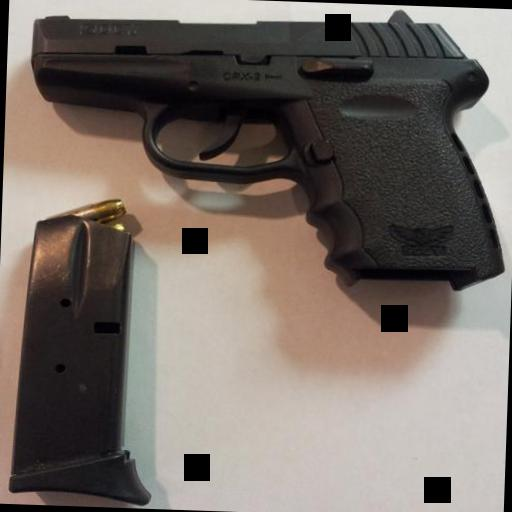Handgun: (22, 0, 512, 300)
